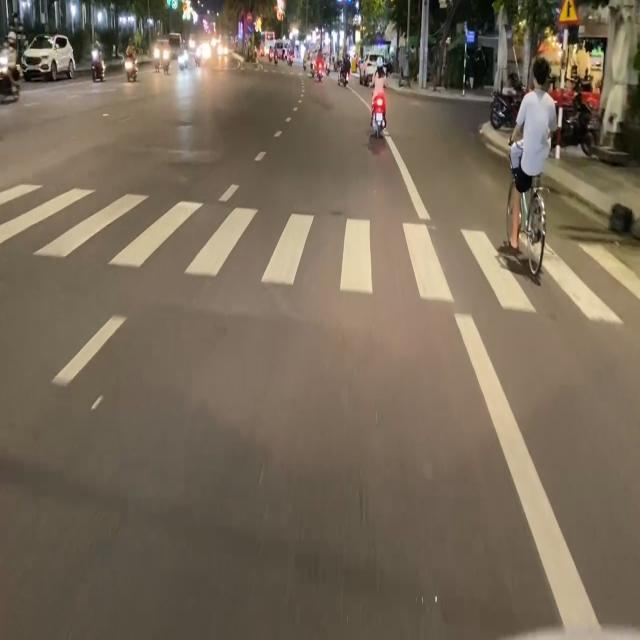walk-crossing: (0, 184, 640, 322)
